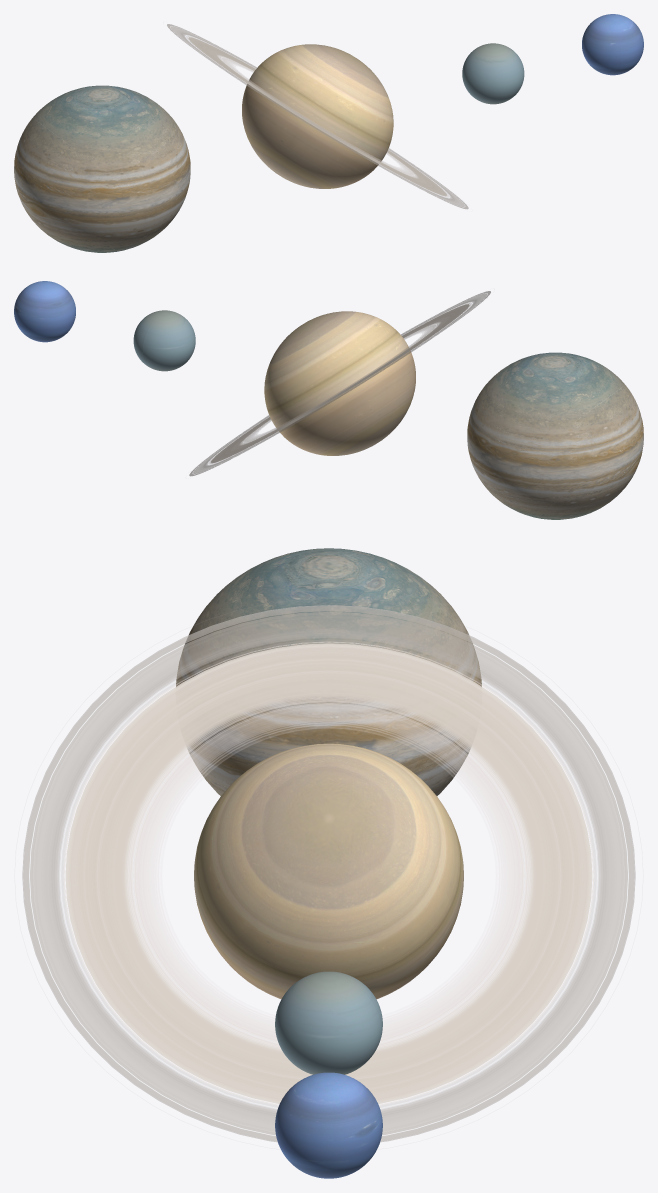
Rendered from Juntos.glb.
3 renders of one model, top to bottom at view 1: azimuth 30°, elevation 25°; view 2: azimuth 150°, elevation 25°; view 3: azimuth 270°, elevation 25°, orthographic. The views are drawn at different scales.
Parts seen in each view (by area): view 1: cubemap, Saturn.001, RingsTop, Neptune, Uranus; view 2: cubemap, Saturn.001, RingsTop, Neptune, Uranus; view 3: RingsTop, Saturn.001, cubemap, Neptune, Uranus.
Part boxes in pixels (box(x1,y1,x2,y2)): cubemap: box(14, 85, 190, 252); Saturn.001: box(242, 44, 393, 188); RingsTop: box(167, 24, 468, 209); Neptune: box(582, 14, 643, 75); Uranus: box(462, 43, 524, 104); cubemap: box(467, 352, 643, 519); Saturn.001: box(264, 311, 415, 455); RingsTop: box(189, 291, 490, 476); Neptune: box(14, 281, 75, 342); Uranus: box(133, 310, 195, 371); RingsTop: box(22, 605, 635, 1142); Saturn.001: box(194, 743, 463, 999); cubemap: box(176, 548, 481, 795); Neptune: box(275, 1072, 382, 1178); Uranus: box(275, 971, 382, 1074).
Bounding box in the file's own units: 4.1 × 1.26 × 2.1.
Materials: 5 (5 with a texture image).
